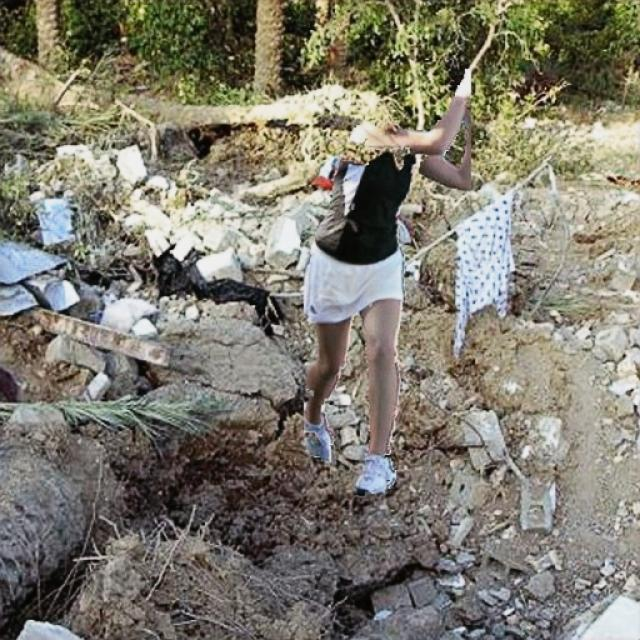Person in Rubble: (304, 69, 470, 495)
